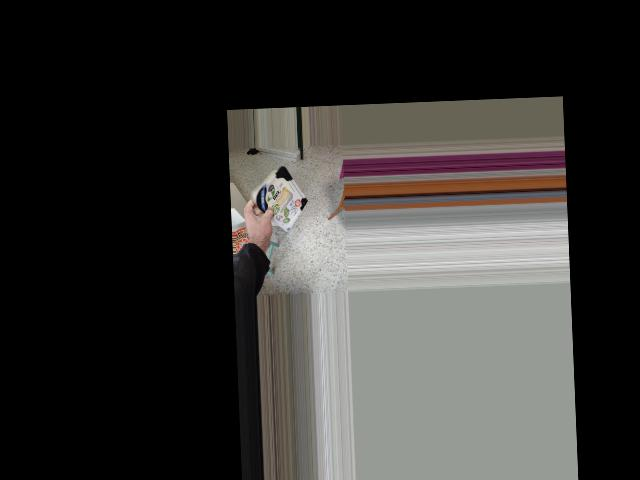cheese: (238, 166, 314, 223)
